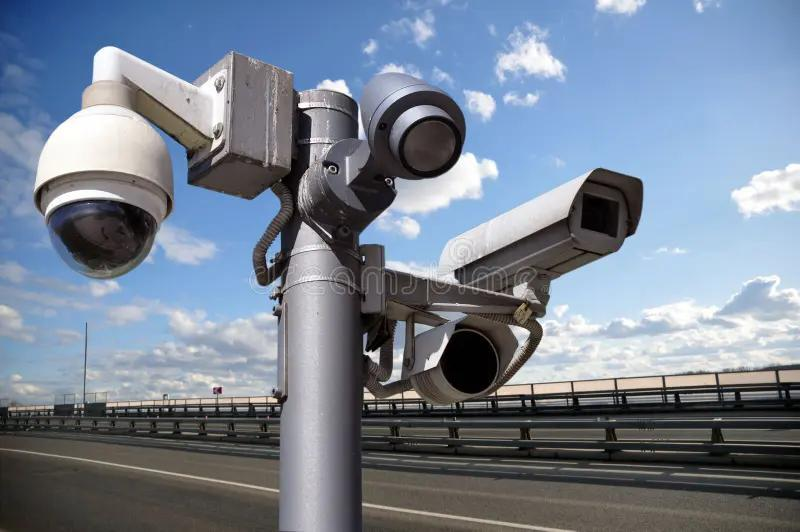Monitor: (427, 176, 709, 300), (369, 304, 594, 434), (357, 77, 475, 178)
camera: (22, 144, 174, 278)
